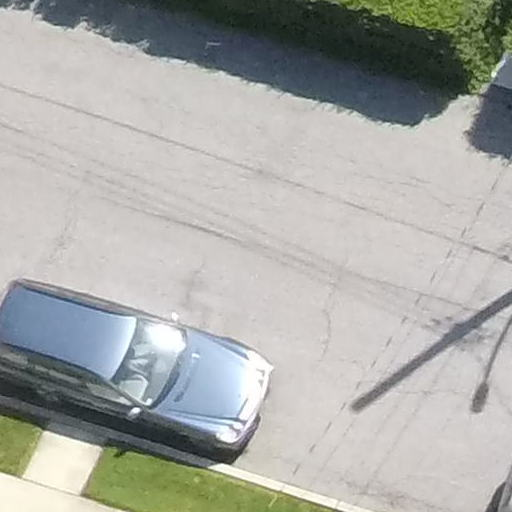car: (1, 266, 299, 471)
